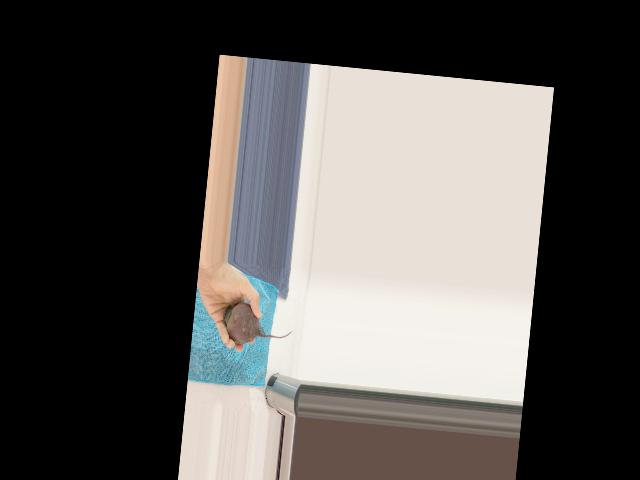beet: (220, 300, 293, 349)
